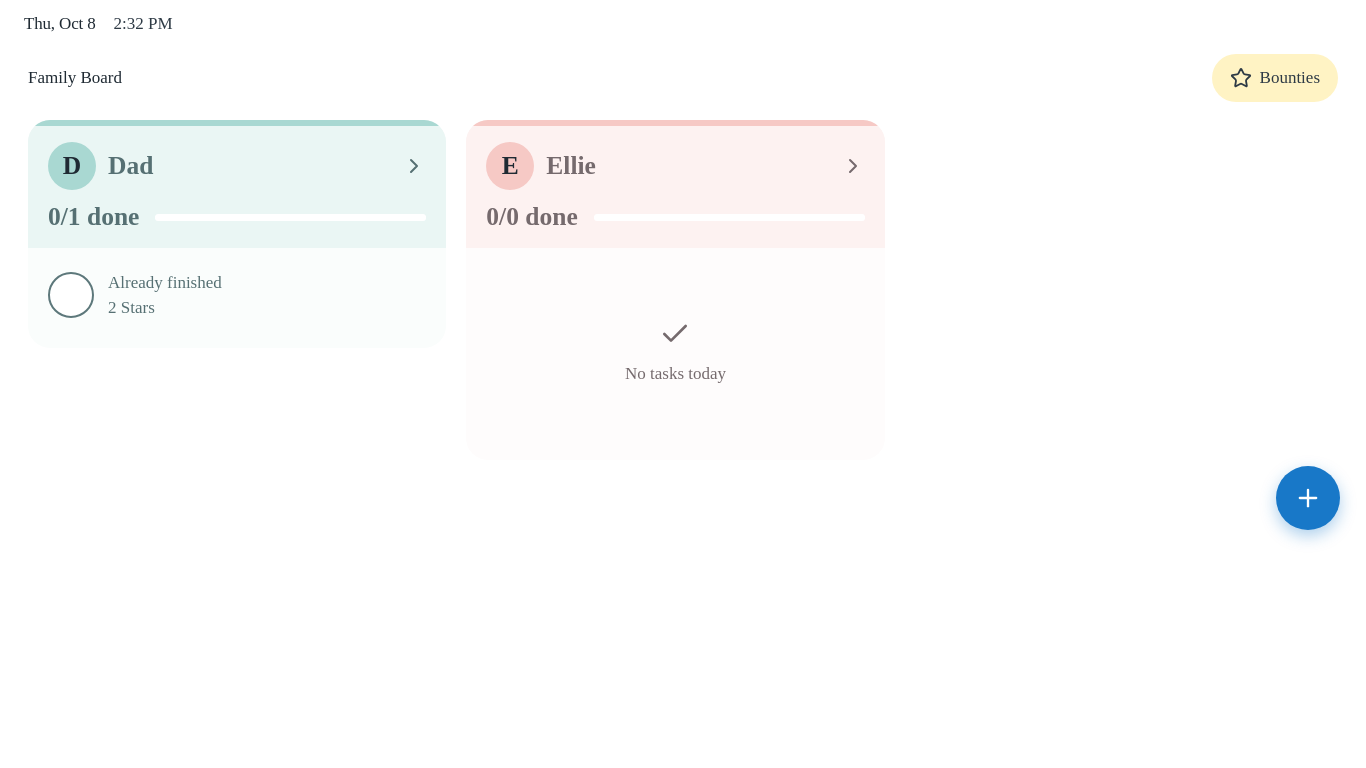
it: TasksScreen › a stale Bounty completion remains visible as an error after refresh
Click the button with aria-label "View tasks for Dad" at point(72, 166), box [28,126,446,248]
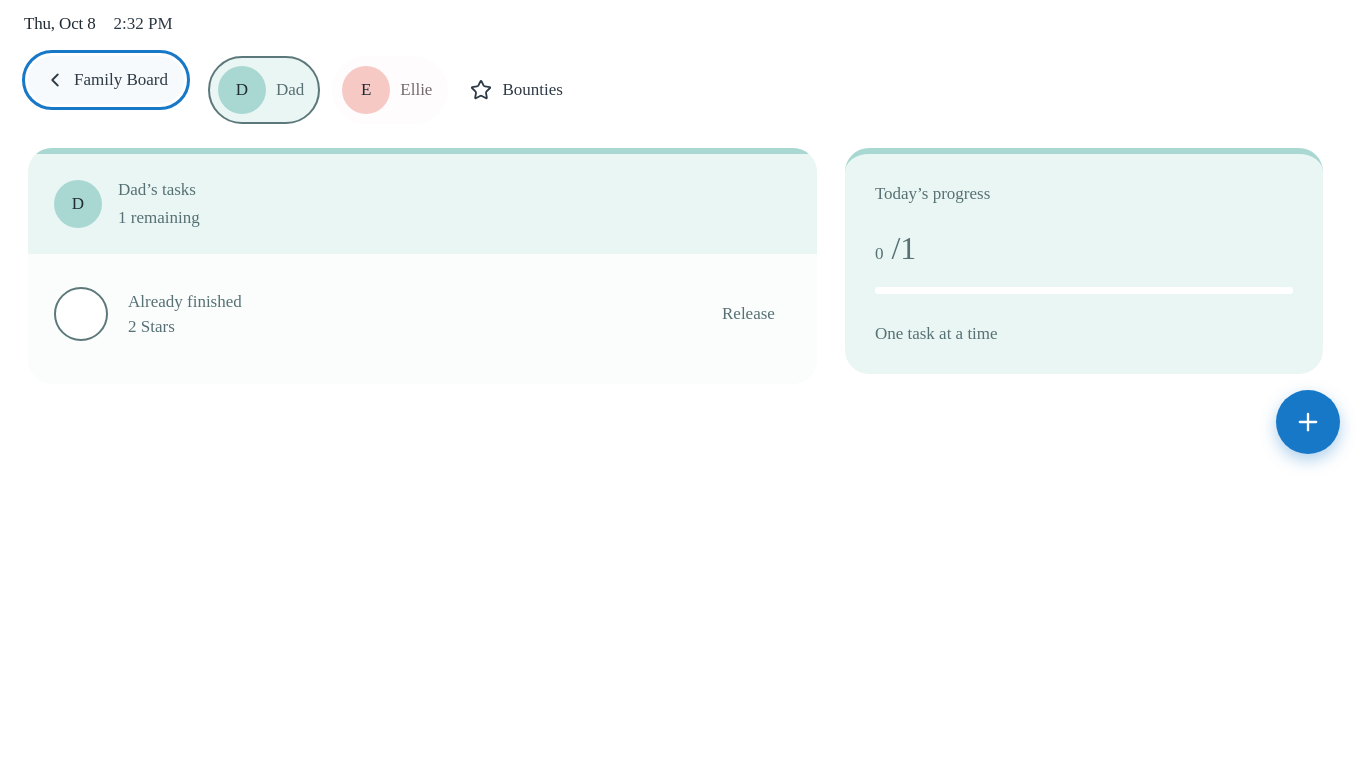
Click the checkbox named "Already finished" at point(81, 314), box [54,287,108,341]
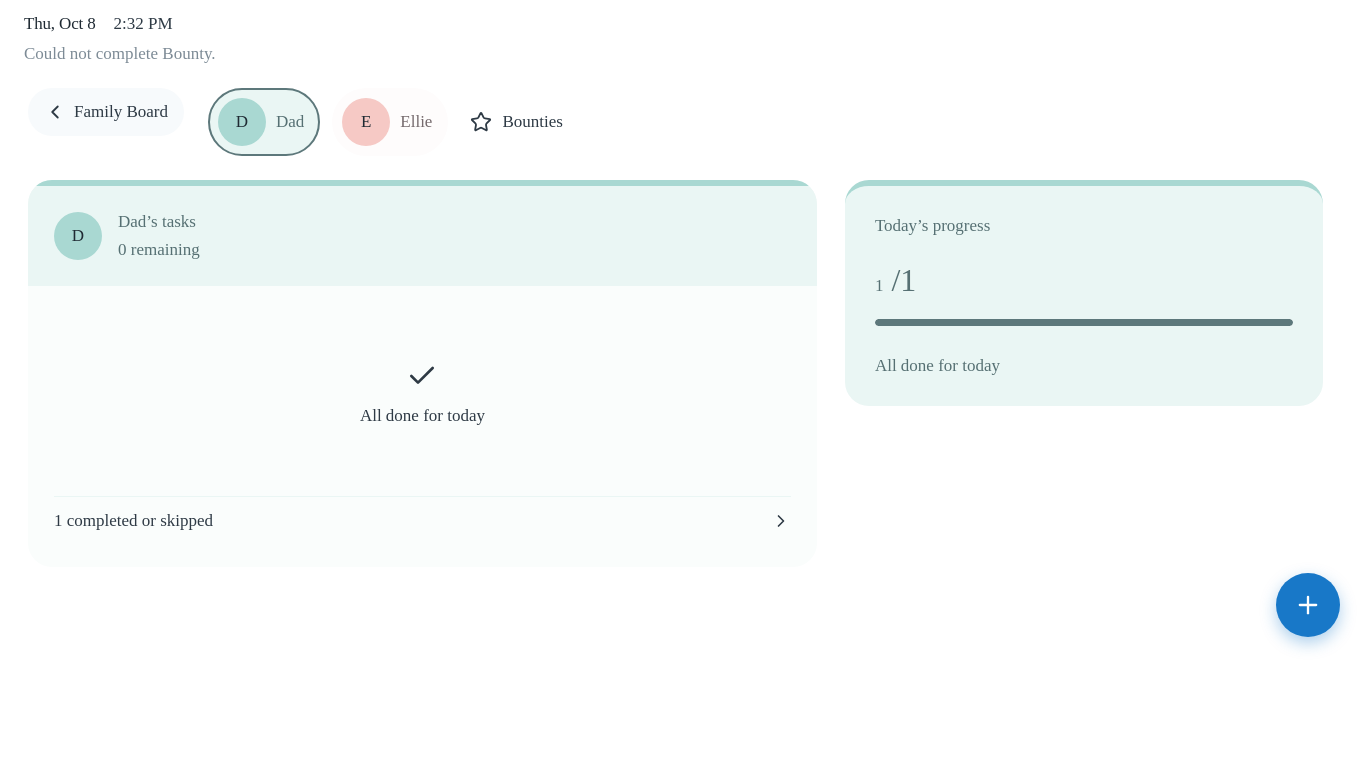
Expected: the message reads "Could not complete Bounty.", [24,44,216,63]
Expected: the text "Already finished" is gone
